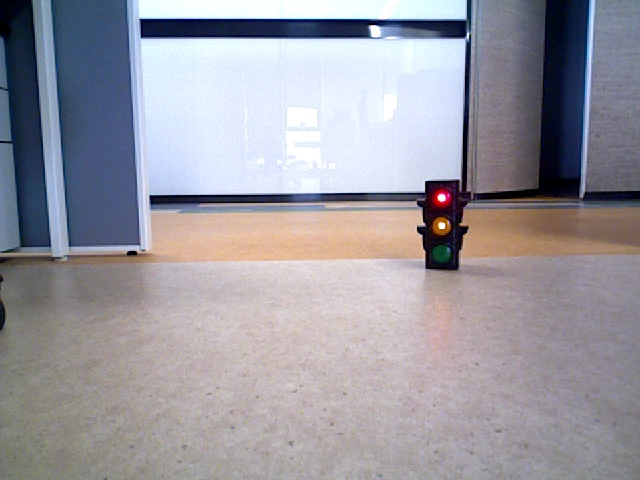red: (425, 183, 457, 267)
